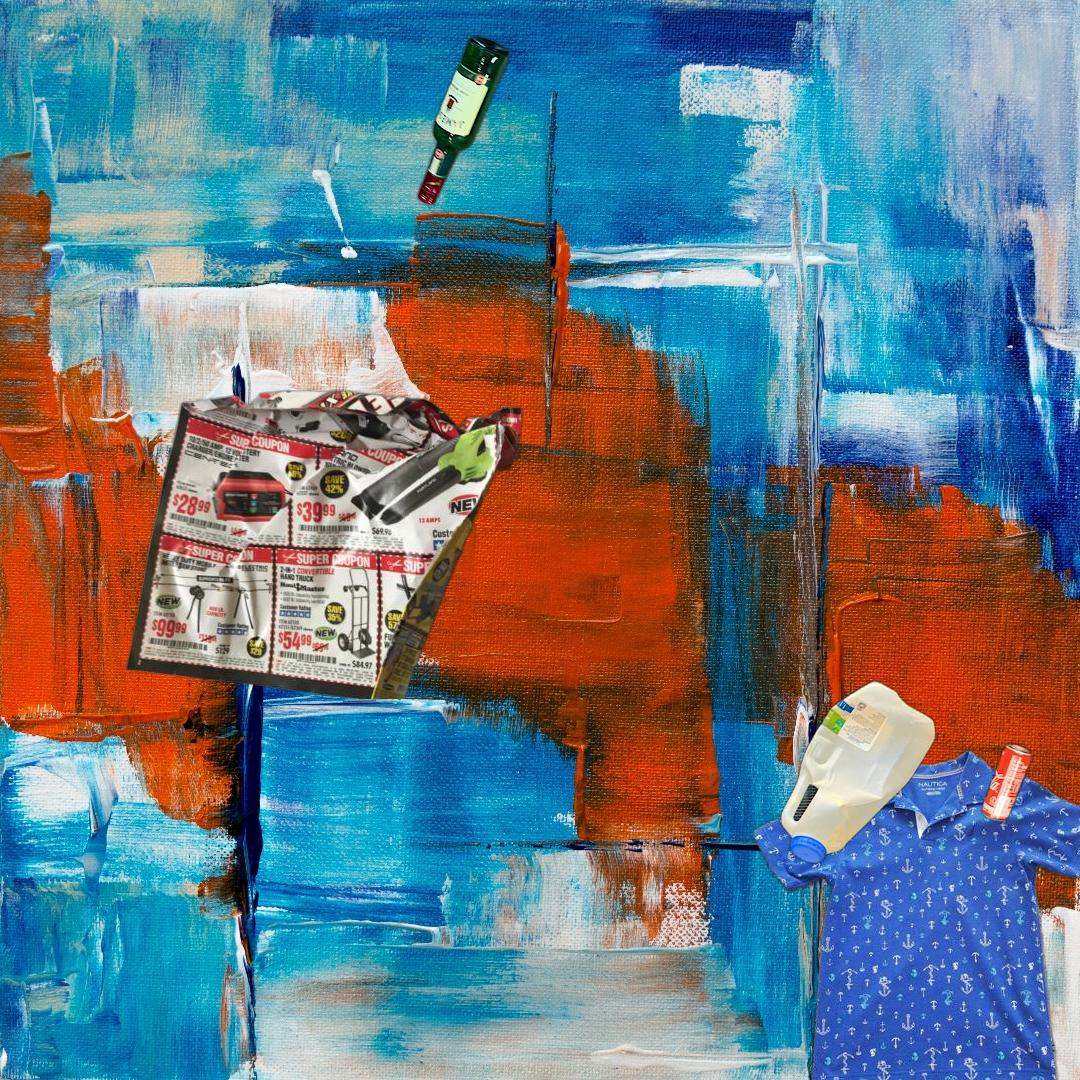clothes: (748, 745, 1080, 1080)
glass: (412, 30, 514, 211)
metal-cans: (688, 738, 1037, 1080)
paper: (121, 387, 529, 699)
plastic-bottles: (776, 674, 940, 869)
